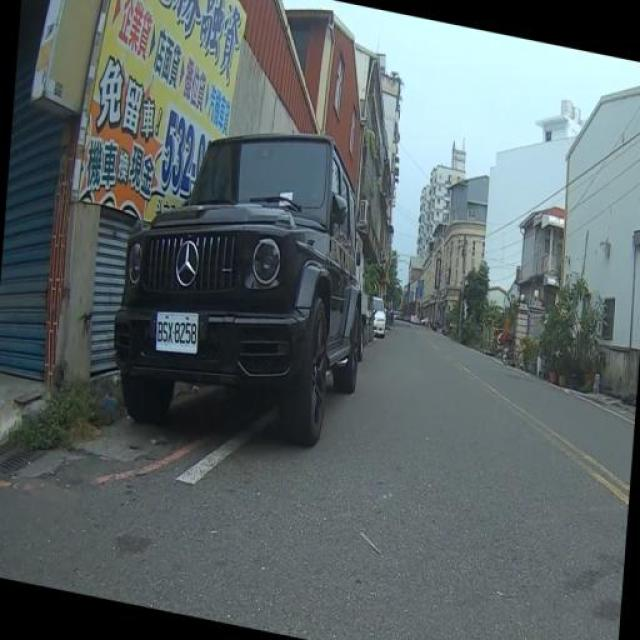Legalparking: (53, 88, 424, 460)
